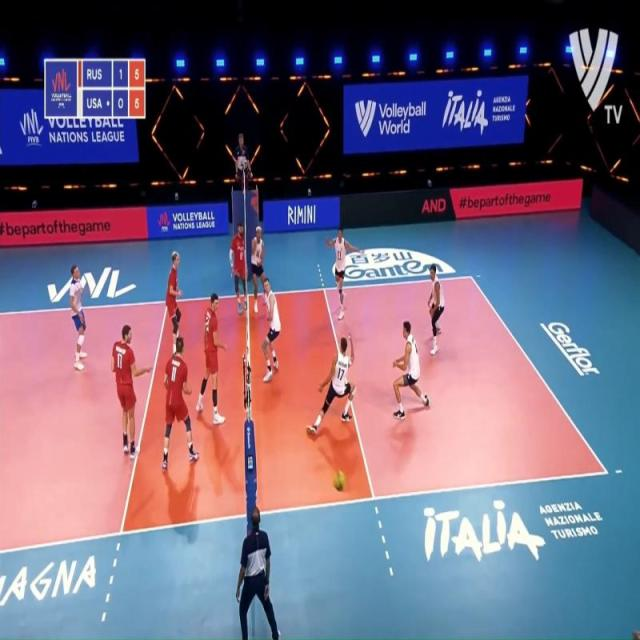volleyball: (334, 470, 344, 490)
